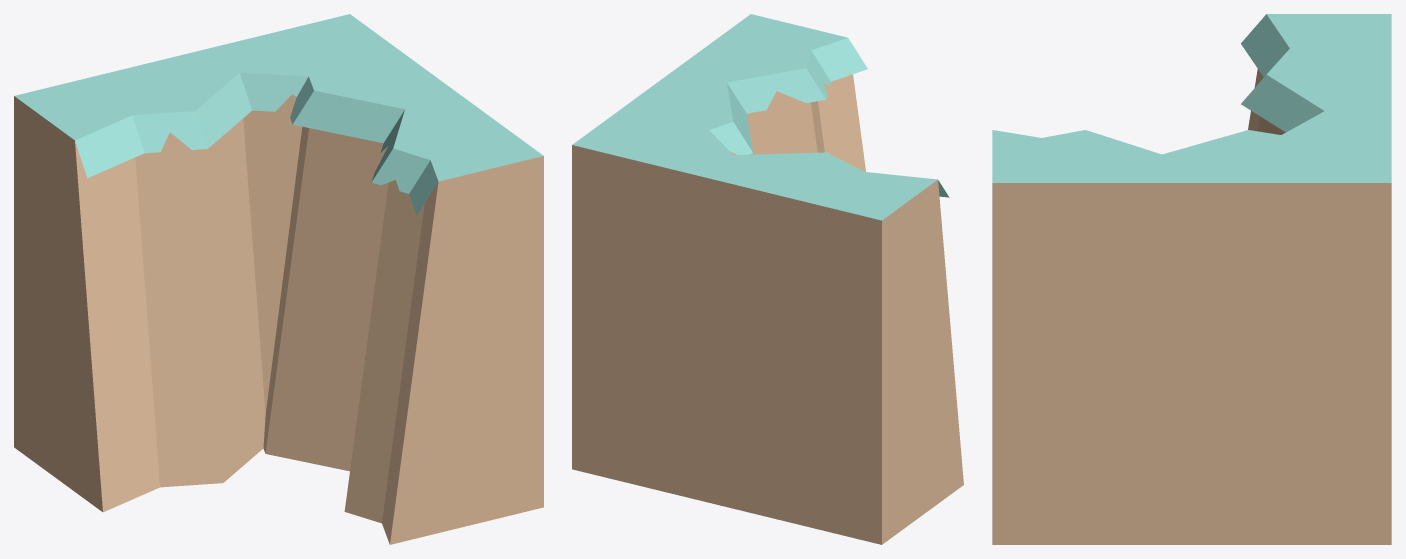
Rendered from cliffBrown_cornerInnerTop.glb.
3 renders of one model, left to right at view 1: azimuth 30°, elevation 25°; view 2: azimuth 150°, elevation 25°; view 3: azimuth 270°, elevation 25°, orthographic. The views are drawn at different scales.
Visible parts, largest first — view 1: cliffBrown_cornerInnerTop; view 2: cliffBrown_cornerInnerTop; view 3: cliffBrown_cornerInnerTop.
Boxes of the visible parts, box(x1,y1,x2,y2) form: cliffBrown_cornerInnerTop: box(14, 14, 543, 544); cliffBrown_cornerInnerTop: box(572, 14, 963, 544); cliffBrown_cornerInnerTop: box(992, 14, 1391, 544).
Bounding box in the file's own units: 1 × 1 × 1.
